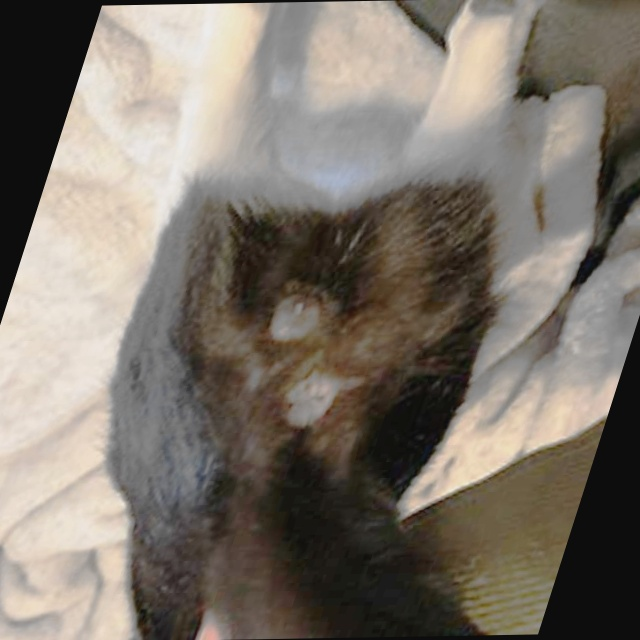lump_and_bump: (281, 372, 339, 425), (268, 299, 320, 343)
